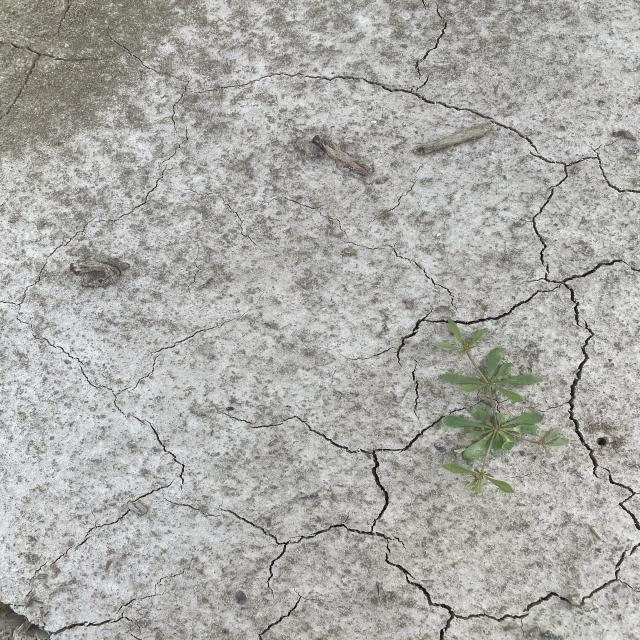Carpetweed: (430, 314, 574, 498)
